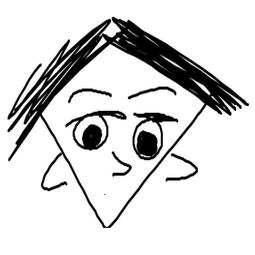ear: (37, 150, 70, 195), (165, 153, 202, 187)
eye: (130, 117, 165, 163), (71, 116, 108, 151)
eyebrow: (62, 81, 119, 104), (125, 81, 181, 101)
nose: (108, 151, 132, 179)
